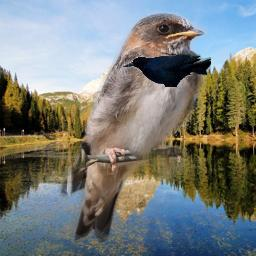Crow: (122, 54, 211, 87)
Swallow: (58, 10, 207, 243)
